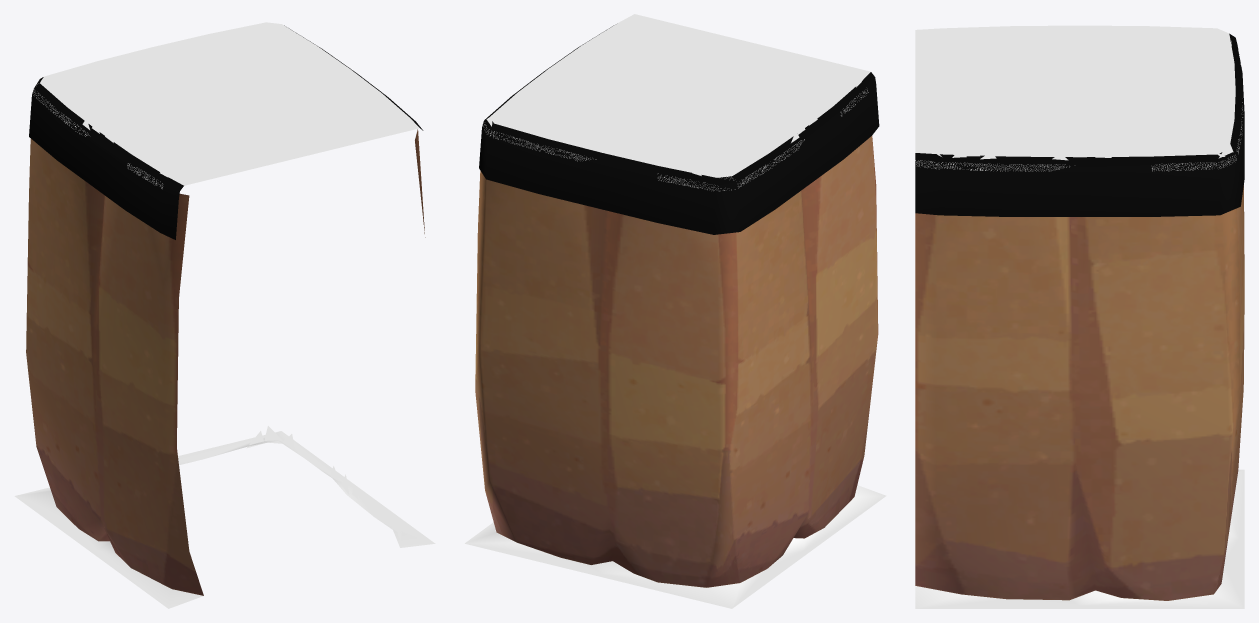
3 views of the same model, side by side, from view 1: azimuth 30°, elevation 25°; view 2: azimuth 150°, elevation 25°; view 3: azimuth 270°, elevation 25° (orthographic). The views are drawn at different scales.
Parts seen in each view (by area): view 1: Cliff__mCliff, GrassT__mGrass, GrassOP__mGrassCliffXlu, GrassB__mGrass, PGrassBA__mProcGrass; view 2: Cliff__mCliff, GrassT__mGrass, GrassOP__mGrassCliffXlu, GrassB__mGrass, PGrassBA__mProcGrass; view 3: Cliff__mCliff, GrassT__mGrass, GrassOP__mGrassCliffXlu, GrassB__mGrass, PGrassBA__mProcGrass.
Boxes of the visible parts, bbox=[...] form: Cliff__mCliff: bbox=[26, 129, 425, 595]; GrassT__mGrass: bbox=[33, 22, 419, 188]; GrassOP__mGrassCliffXlu: bbox=[29, 25, 423, 239]; GrassB__mGrass: bbox=[14, 431, 435, 608]; PGrassBA__mProcGrass: bbox=[46, 83, 402, 543]; Cliff__mCliff: bbox=[475, 136, 878, 587]; GrassT__mGrass: bbox=[483, 14, 870, 191]; GrassOP__mGrassCliffXlu: bbox=[479, 25, 879, 234]; GrassB__mGrass: bbox=[465, 485, 886, 608]; PGrassBA__mProcGrass: bbox=[486, 79, 861, 531]; Cliff__mCliff: bbox=[915, 185, 1244, 600]; GrassT__mGrass: bbox=[915, 25, 1242, 171]; GrassOP__mGrassCliffXlu: bbox=[915, 33, 1244, 216]; GrassB__mGrass: bbox=[915, 469, 1244, 608]; PGrassBA__mProcGrass: bbox=[932, 41, 1233, 160].
Bounding box in the file's own units: 10 × 15.42 × 10.
Materials: 4 (1 with a texture image).
